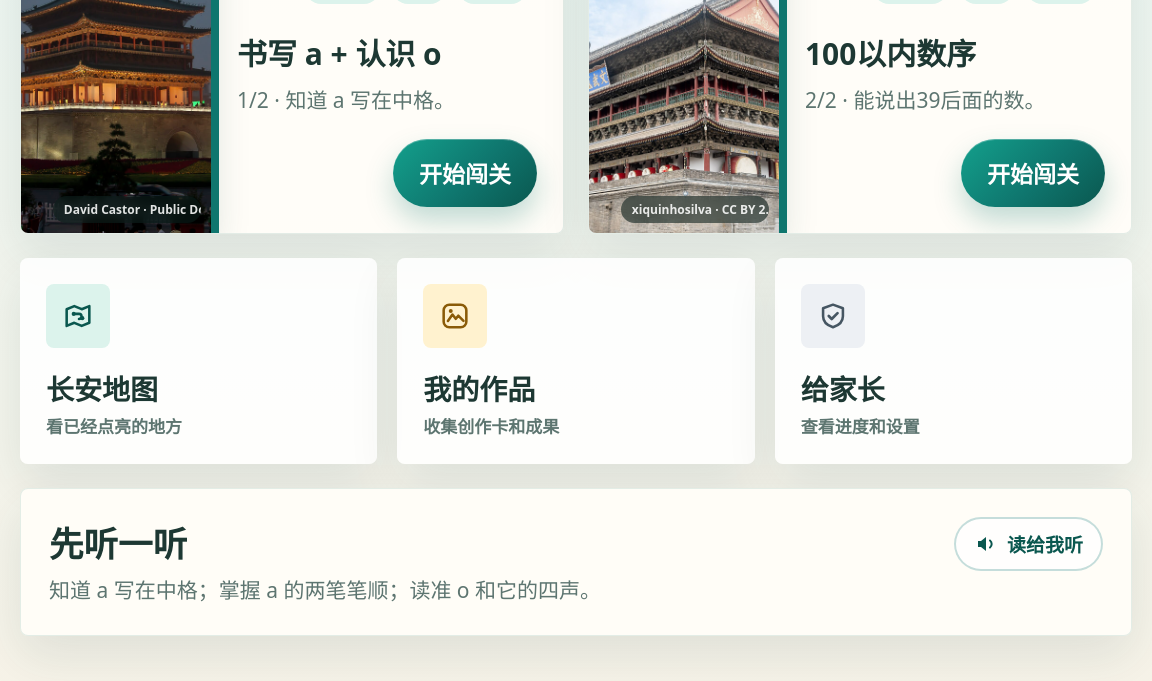
it: App shell › opens unlocked map lessons and keeps future locations locked
The width and height of the screenshot is (1152, 681).
(page scrolled)
Click the button "长安地图 看已经点亮的地方" at (78, 316), box [20,258,377,464]
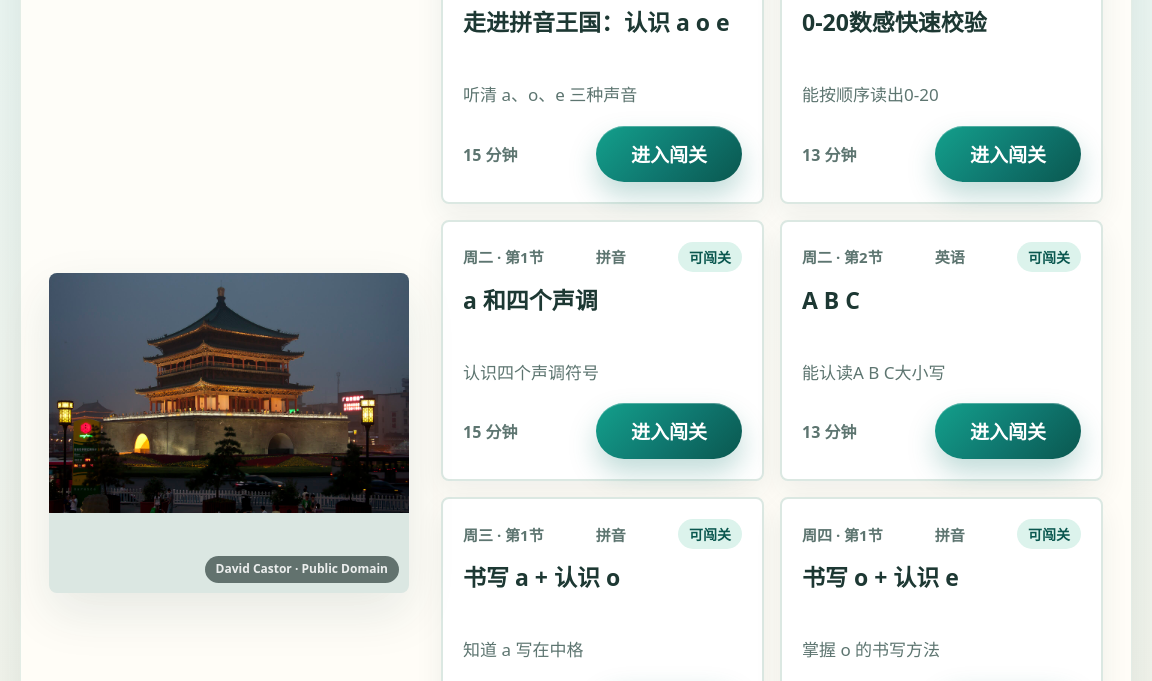
Now the button "进入闯关" below "听清 a、o、e 三种声音" is shown
Click the button "进入闯关" below "听清 a、o、e 三种声音" at (669, 154), box [596,126,742,182]
(page scrolled)
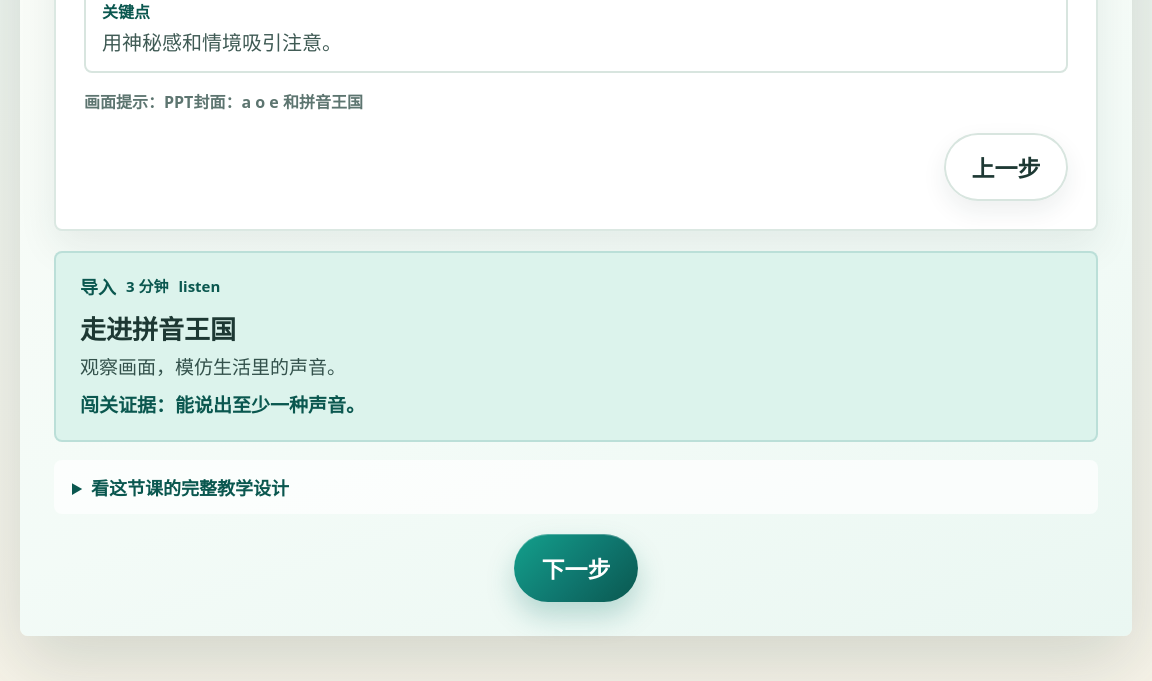
Now the button "下一步" is shown, box [514,534,638,602]
